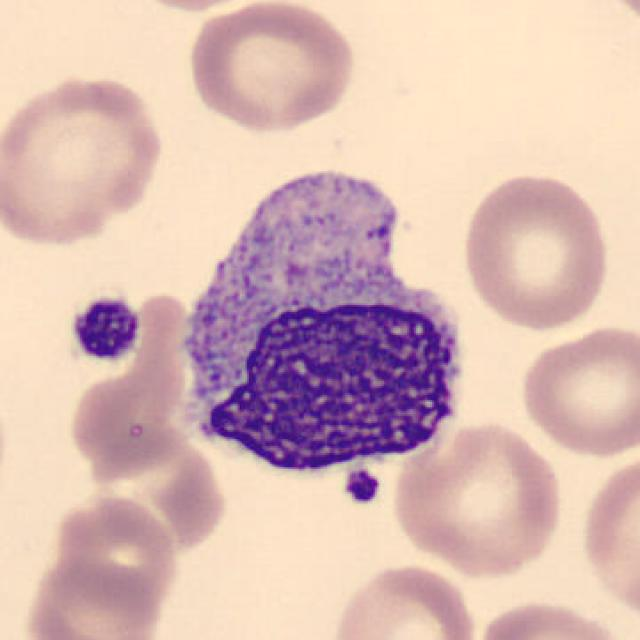Monocyte: (166, 153, 478, 501)
Platelets: (66, 291, 144, 367), (341, 465, 384, 508)
RBC: (0, 69, 169, 250), (388, 418, 567, 580), (457, 169, 613, 333), (183, 0, 361, 136), (77, 421, 231, 559), (46, 492, 182, 617), (516, 321, 638, 460), (19, 553, 167, 640), (325, 559, 482, 640), (576, 448, 638, 628), (469, 596, 635, 640), (114, 0, 277, 14)
